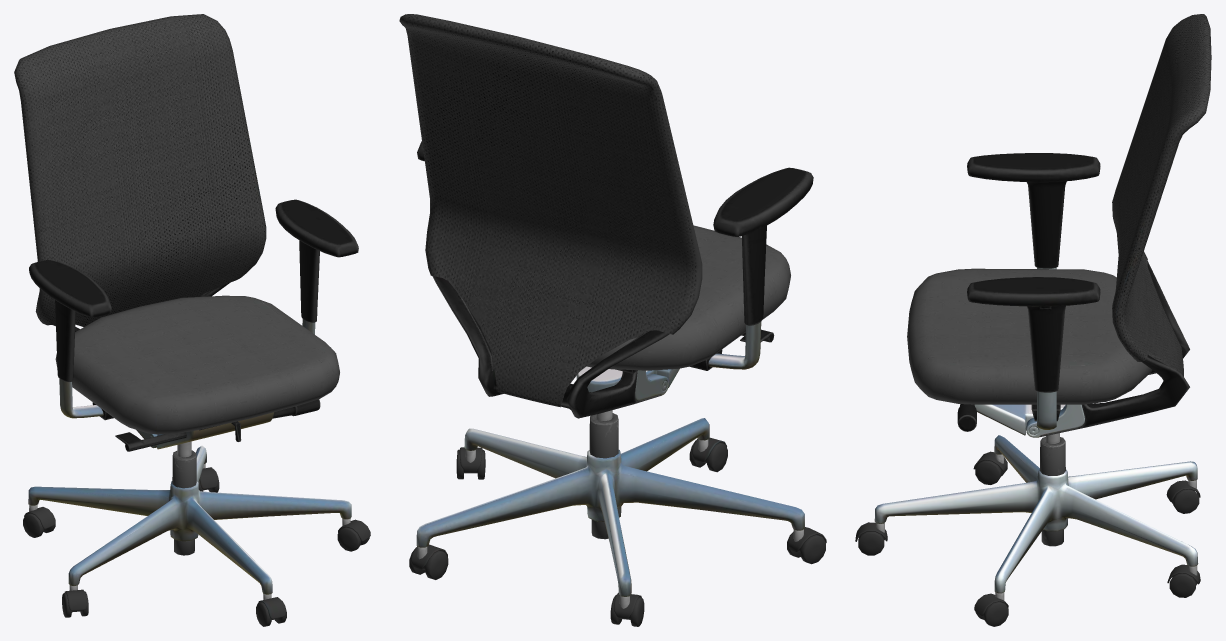
The picture shows the model from 3 angles, left to right: view 1: azimuth 30°, elevation 25°; view 2: azimuth 150°, elevation 25°; view 3: azimuth 270°, elevation 25°; orthographic projection. The views are drawn at different scales.
Visible parts, largest first — view 1: Chair; view 2: Chair; view 3: Chair.
Part boxes in pixels (<box>): Chair: <box>14,14,370,626</box>; Chair: <box>399,14,826,626</box>; Chair: <box>855,14,1211,626</box>.
Bounding box in the file's own units: 0.7029 × 1.05 × 0.6825.
1 material, 1 textured.
